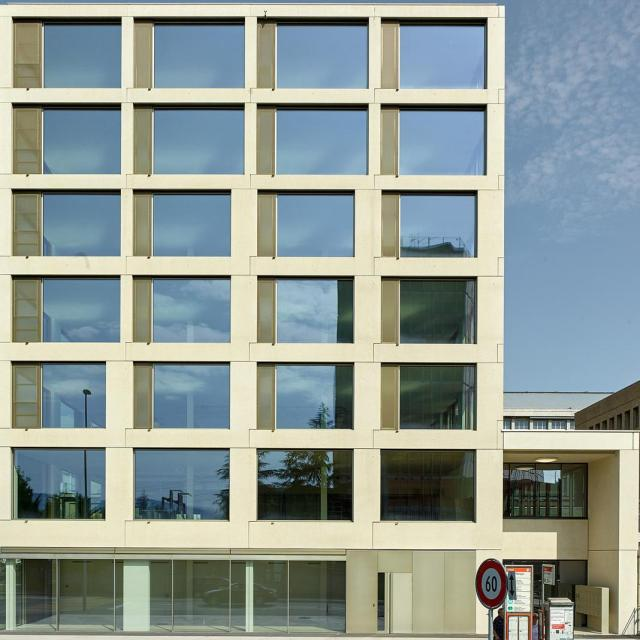door: (375, 572, 415, 634)
window: (14, 557, 347, 635), (14, 443, 110, 517), (132, 445, 227, 519), (380, 447, 476, 520), (257, 448, 352, 521), (276, 109, 368, 173), (276, 22, 368, 86), (151, 109, 245, 171), (151, 23, 245, 85), (399, 108, 484, 173), (399, 20, 484, 85), (277, 363, 354, 428), (276, 276, 353, 341), (41, 278, 120, 341), (400, 363, 476, 428), (399, 276, 475, 341), (401, 192, 477, 257), (278, 192, 354, 257), (43, 193, 120, 257), (41, 109, 118, 173), (41, 22, 118, 86), (502, 463, 588, 519), (152, 363, 228, 426), (154, 278, 230, 341), (153, 192, 229, 255), (43, 362, 109, 428)
